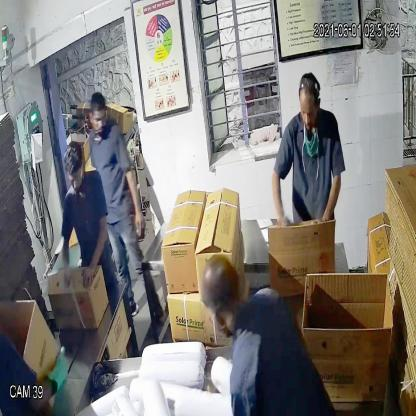goggles: (66, 167, 86, 188)
no_goggles: (298, 100, 322, 122)
